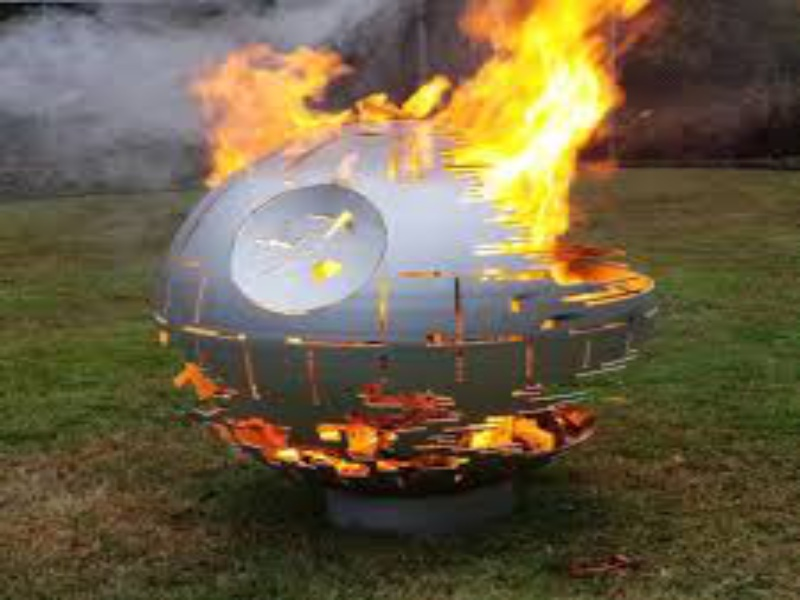fire: (431, 6, 646, 142), (192, 20, 347, 162), (502, 147, 596, 218)
